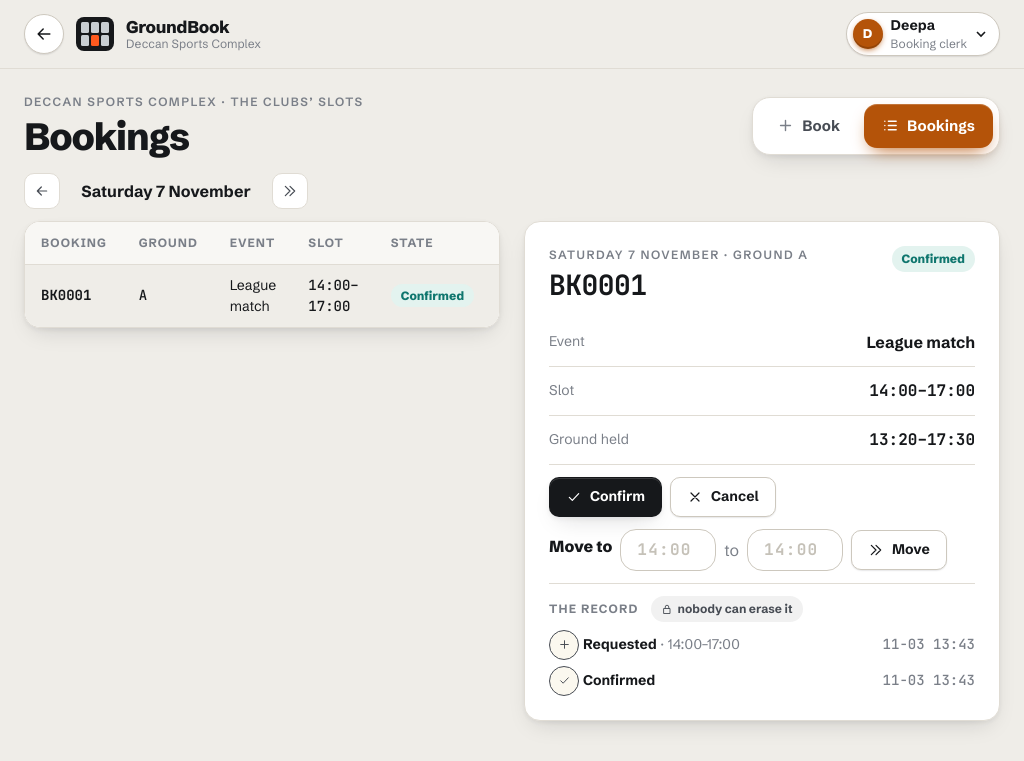
Scenario: F-09 · Moving a booking › a confirmed booking that moves is still confirmed
The width and height of the screenshot is (1024, 761).
Expected: the table is shown, [25, 222, 500, 327]
In the field named "Move from": (668, 550) [621, 530, 715, 570], type "13:00"
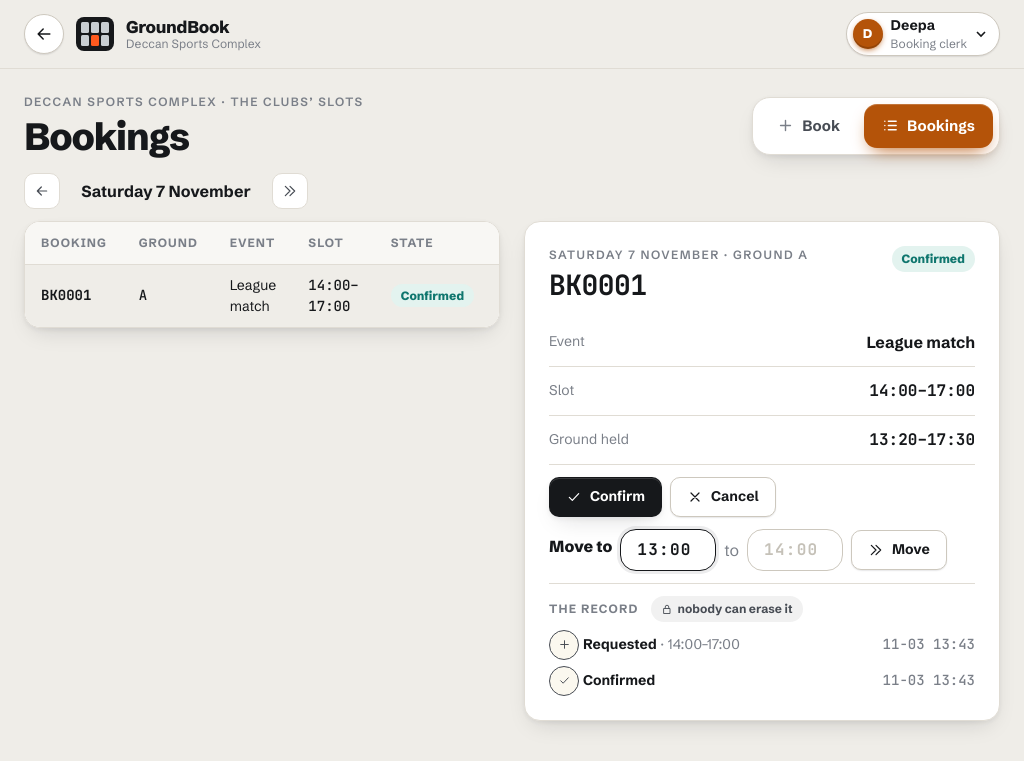
In the field named "Move to": (795, 550) [748, 530, 842, 570], type "16:00"
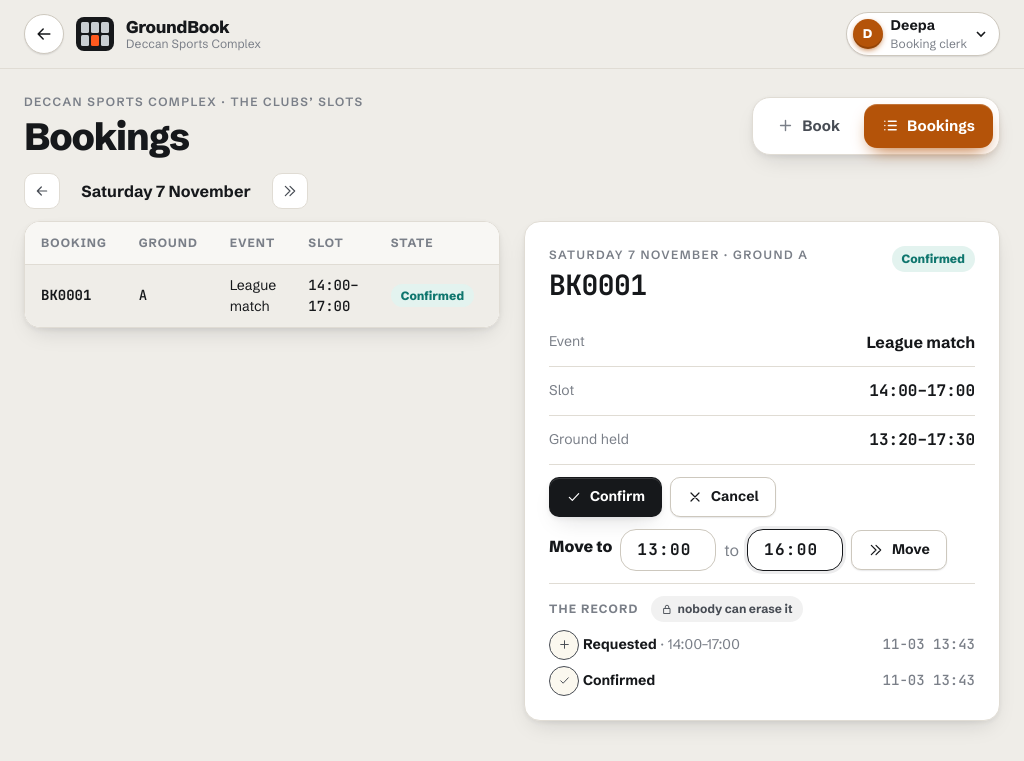
Click the button "Move": click(899, 550) [851, 530, 947, 570]
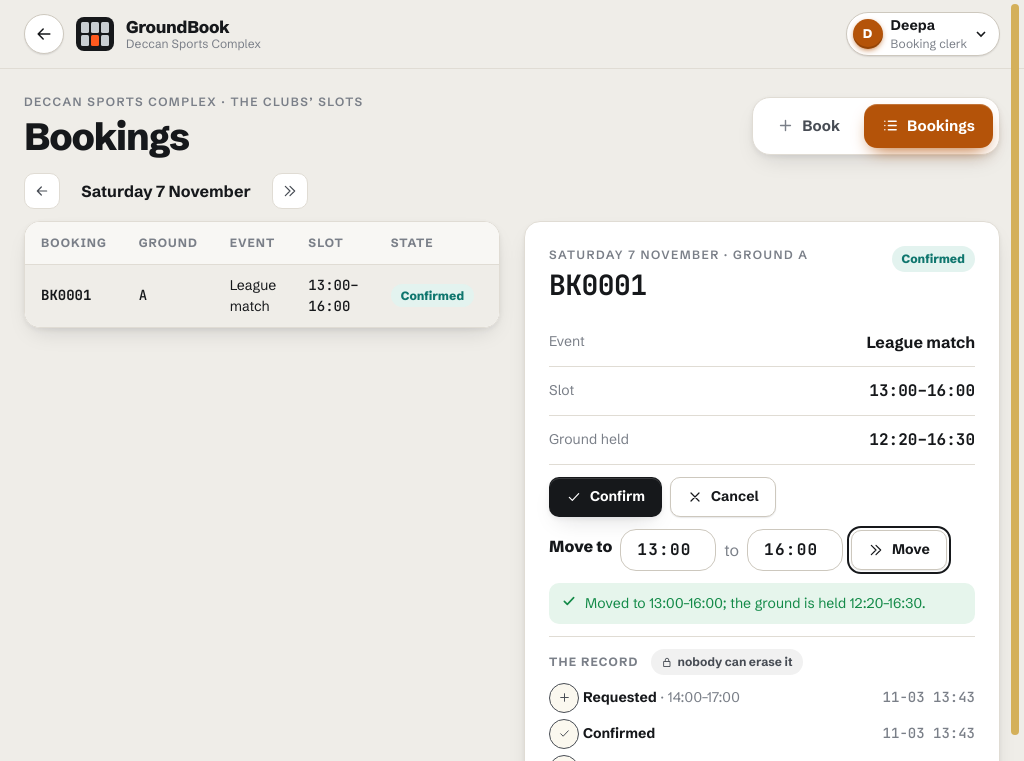
Expected: the text "Confirmed" below "State" is shown, [401, 288, 464, 303]
Now the text "Moved to 13:00–16:00; the ground is held 12:20–16:30." is shown, box [585, 593, 926, 614]
